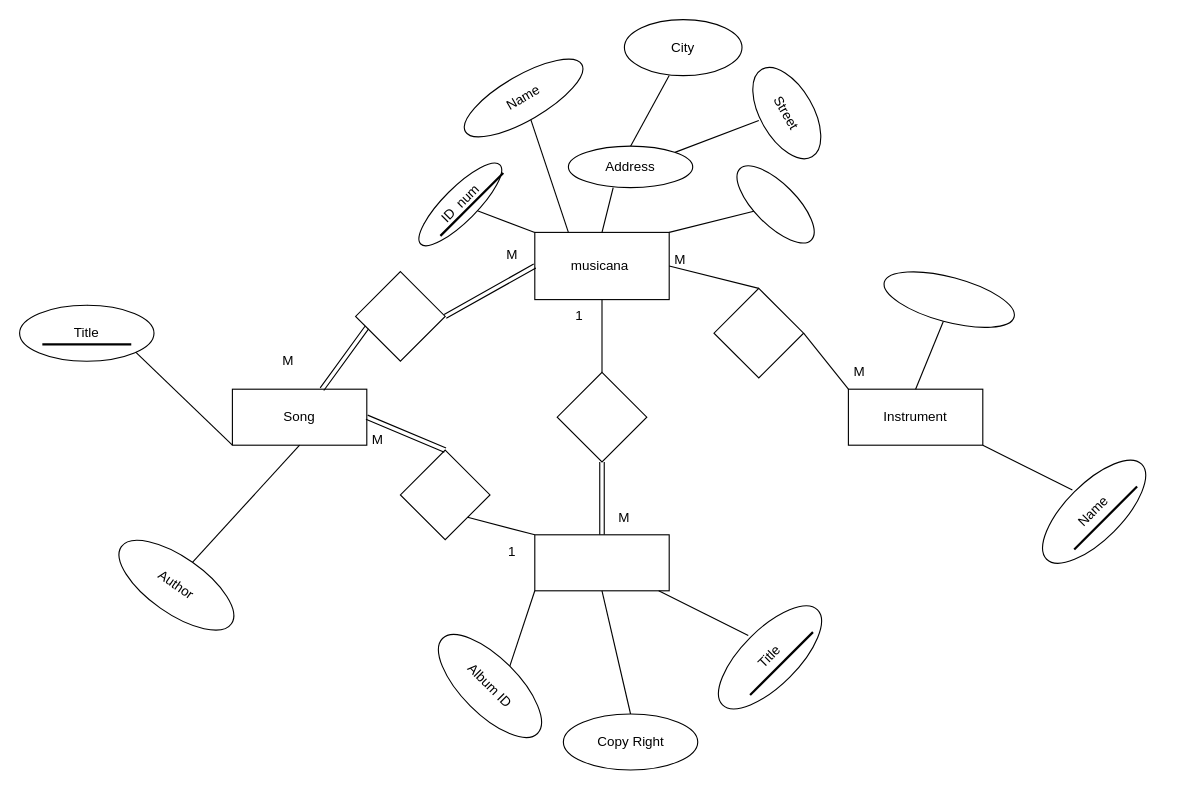
Some shapes in this 1182 by 790 pixel diagram are drawn without their labels. The centre of each missing label's shape, as x and y in pixels:
"Album" goes at point (601, 562).
"Has" goes at point (444, 494).
"Musical key" goes at point (948, 299).
"Perform" goes at point (399, 315).
"Phone Number" goes at point (775, 204).
"Play" goes at point (758, 332).
"Record" goes at point (601, 416).
